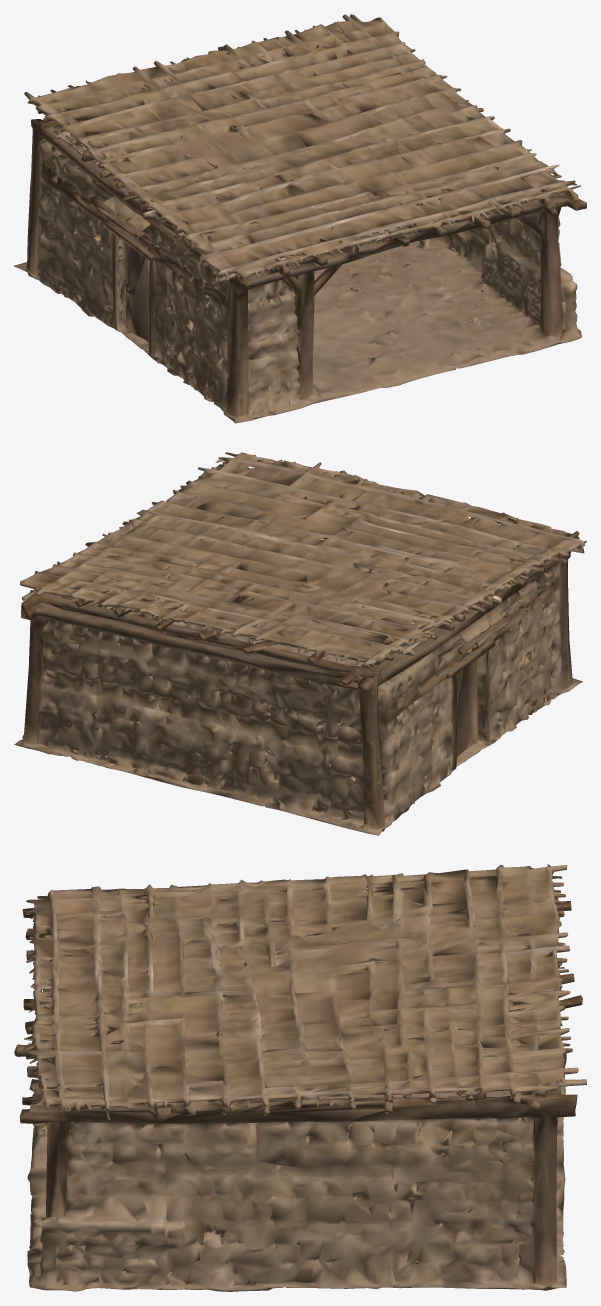
The model's file is square-nativity-stall.glb.
3 renders of one model, top to bottom at view 1: azimuth 30°, elevation 25°; view 2: azimuth 150°, elevation 25°; view 3: azimuth 270°, elevation 25°, orthographic. The views are drawn at different scales.
Parts seen in each view (by area): view 1: geometry_0; view 2: geometry_0; view 3: geometry_0.
Boxes of the visible parts, x1=… form: geometry_0: x1=14, y1=14, x2=586, y2=423; geometry_0: x1=14, y1=452, x2=586, y2=835; geometry_0: x1=14, y1=864, x2=586, y2=1291.
Bounding box in the file's own units: 7.12 × 3.21 × 7.52.
Materials: 1 (1 with a texture image).
